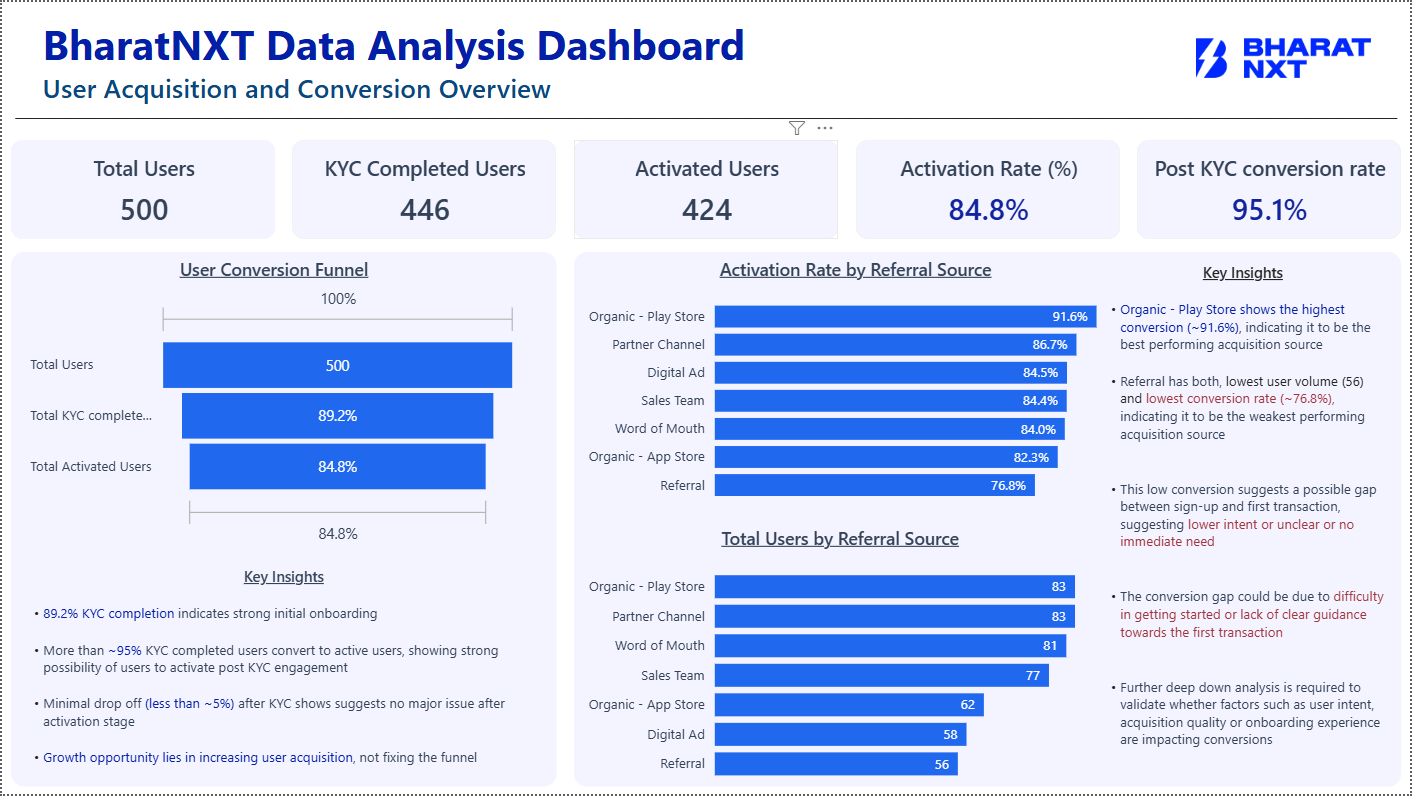

What the dashboard file says about the page in this screenshot:
{"tool":"powerbi","page":{"name":"User Acquisition and Conversion Overview","canvas":[1280,720],"ordinal":0},"visuals":[{"type":"textbox","box":[32,7,656,62],"z":0},{"type":"cardVisual","fields":{"Data":["Measures Table.Total Users"]},"box":[8,125,240,90],"z":1000},{"type":"cardVisual","fields":{"Data":["Measures Table.Total KYC completed users"]},"box":[264,125,240,90],"z":2000},{"type":"cardVisual","fields":{"Data":["Measures Table.Total Activated Users"]},"box":[520,125,240,90],"z":3000},{"type":"cardVisual","fields":{"Data":["Measures Table.Activation Rate"]},"box":[776,125,240,90],"z":4000},{"type":"cardVisual","fields":{"Data":["Measures Table.Post KYC conversion rate"]},"box":[1032,125,240,90],"z":5000},{"type":"textbox","box":[8,227,496,486],"z":6000},{"type":"funnel","title":"User Conversion Funnel","fields":{"Y":["Measures Table.Total Users","Measures Table.Total KYC completed users","Measures Table.Total Activated Users"]},"box":[22.7,231.8,449.1,262.7],"z":7000},{"type":"textbox","box":[14.4,507.8,483.3,194.4],"z":8000},{"type":"textbox","box":[32,56,474,46],"z":9000},{"type":"textbox","box":[520,227,752,486],"z":10000},{"type":"clusteredBarChart","title":"Activation Rate by Referral Source","fields":{"Category":["User MIS copy.Referral Source"],"Y":["Measures Table.Activation Rate"]},"box":[520,232,512,233],"z":11000},{"type":"clusteredBarChart","title":"Total Users by Referral Source","fields":{"Category":["User MIS copy.Referral Source"],"Y":["Measures Table.Total Users"]},"box":[520,476,484,243],"z":12000},{"type":"textbox","box":[993.3,232.2,268.9,480],"z":13000},{"type":"textbox","box":[0,91,1280,27],"z":14000},{"type":"image","box":[1085,0,159,102],"z":15000}]}

Visuals, with their boxes in screenshot pixels (x1, y1, x2, y2), scaled from the page's 1280x720 canvas onto the 1412x796 screenshot:
textbox: l=35, t=8, r=759, b=76
cardVisual - Measures Table.Total Users: l=9, t=138, r=274, b=238
cardVisual - Measures Table.Total KYC completed users: l=291, t=138, r=556, b=238
cardVisual - Measures Table.Total Activated Users: l=574, t=138, r=838, b=238
cardVisual - Measures Table.Activation Rate: l=856, t=138, r=1121, b=238
cardVisual - Measures Table.Post KYC conversion rate: l=1138, t=138, r=1403, b=238
textbox: l=9, t=251, r=556, b=788
"User Conversion Funnel" funnel: l=25, t=256, r=520, b=547
textbox: l=16, t=561, r=549, b=776
textbox: l=35, t=62, r=558, b=113
textbox: l=574, t=251, r=1403, b=788
"Activation Rate by Referral Source" clusteredBarChart: l=574, t=256, r=1138, b=514
"Total Users by Referral Source" clusteredBarChart: l=574, t=526, r=1108, b=795
textbox: l=1096, t=257, r=1392, b=787
textbox: l=0, t=101, r=1411, b=130
image: l=1197, t=0, r=1372, b=113
